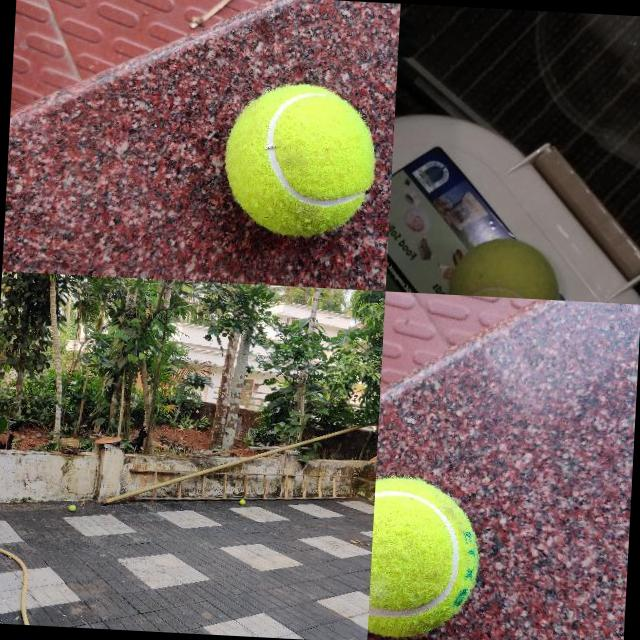Tennis Ball: (222, 81, 378, 239), (368, 476, 481, 640), (447, 233, 562, 300), (69, 506, 76, 512), (240, 499, 247, 505)
